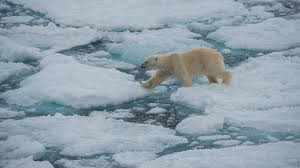PolarBear: (133, 46, 239, 92)
